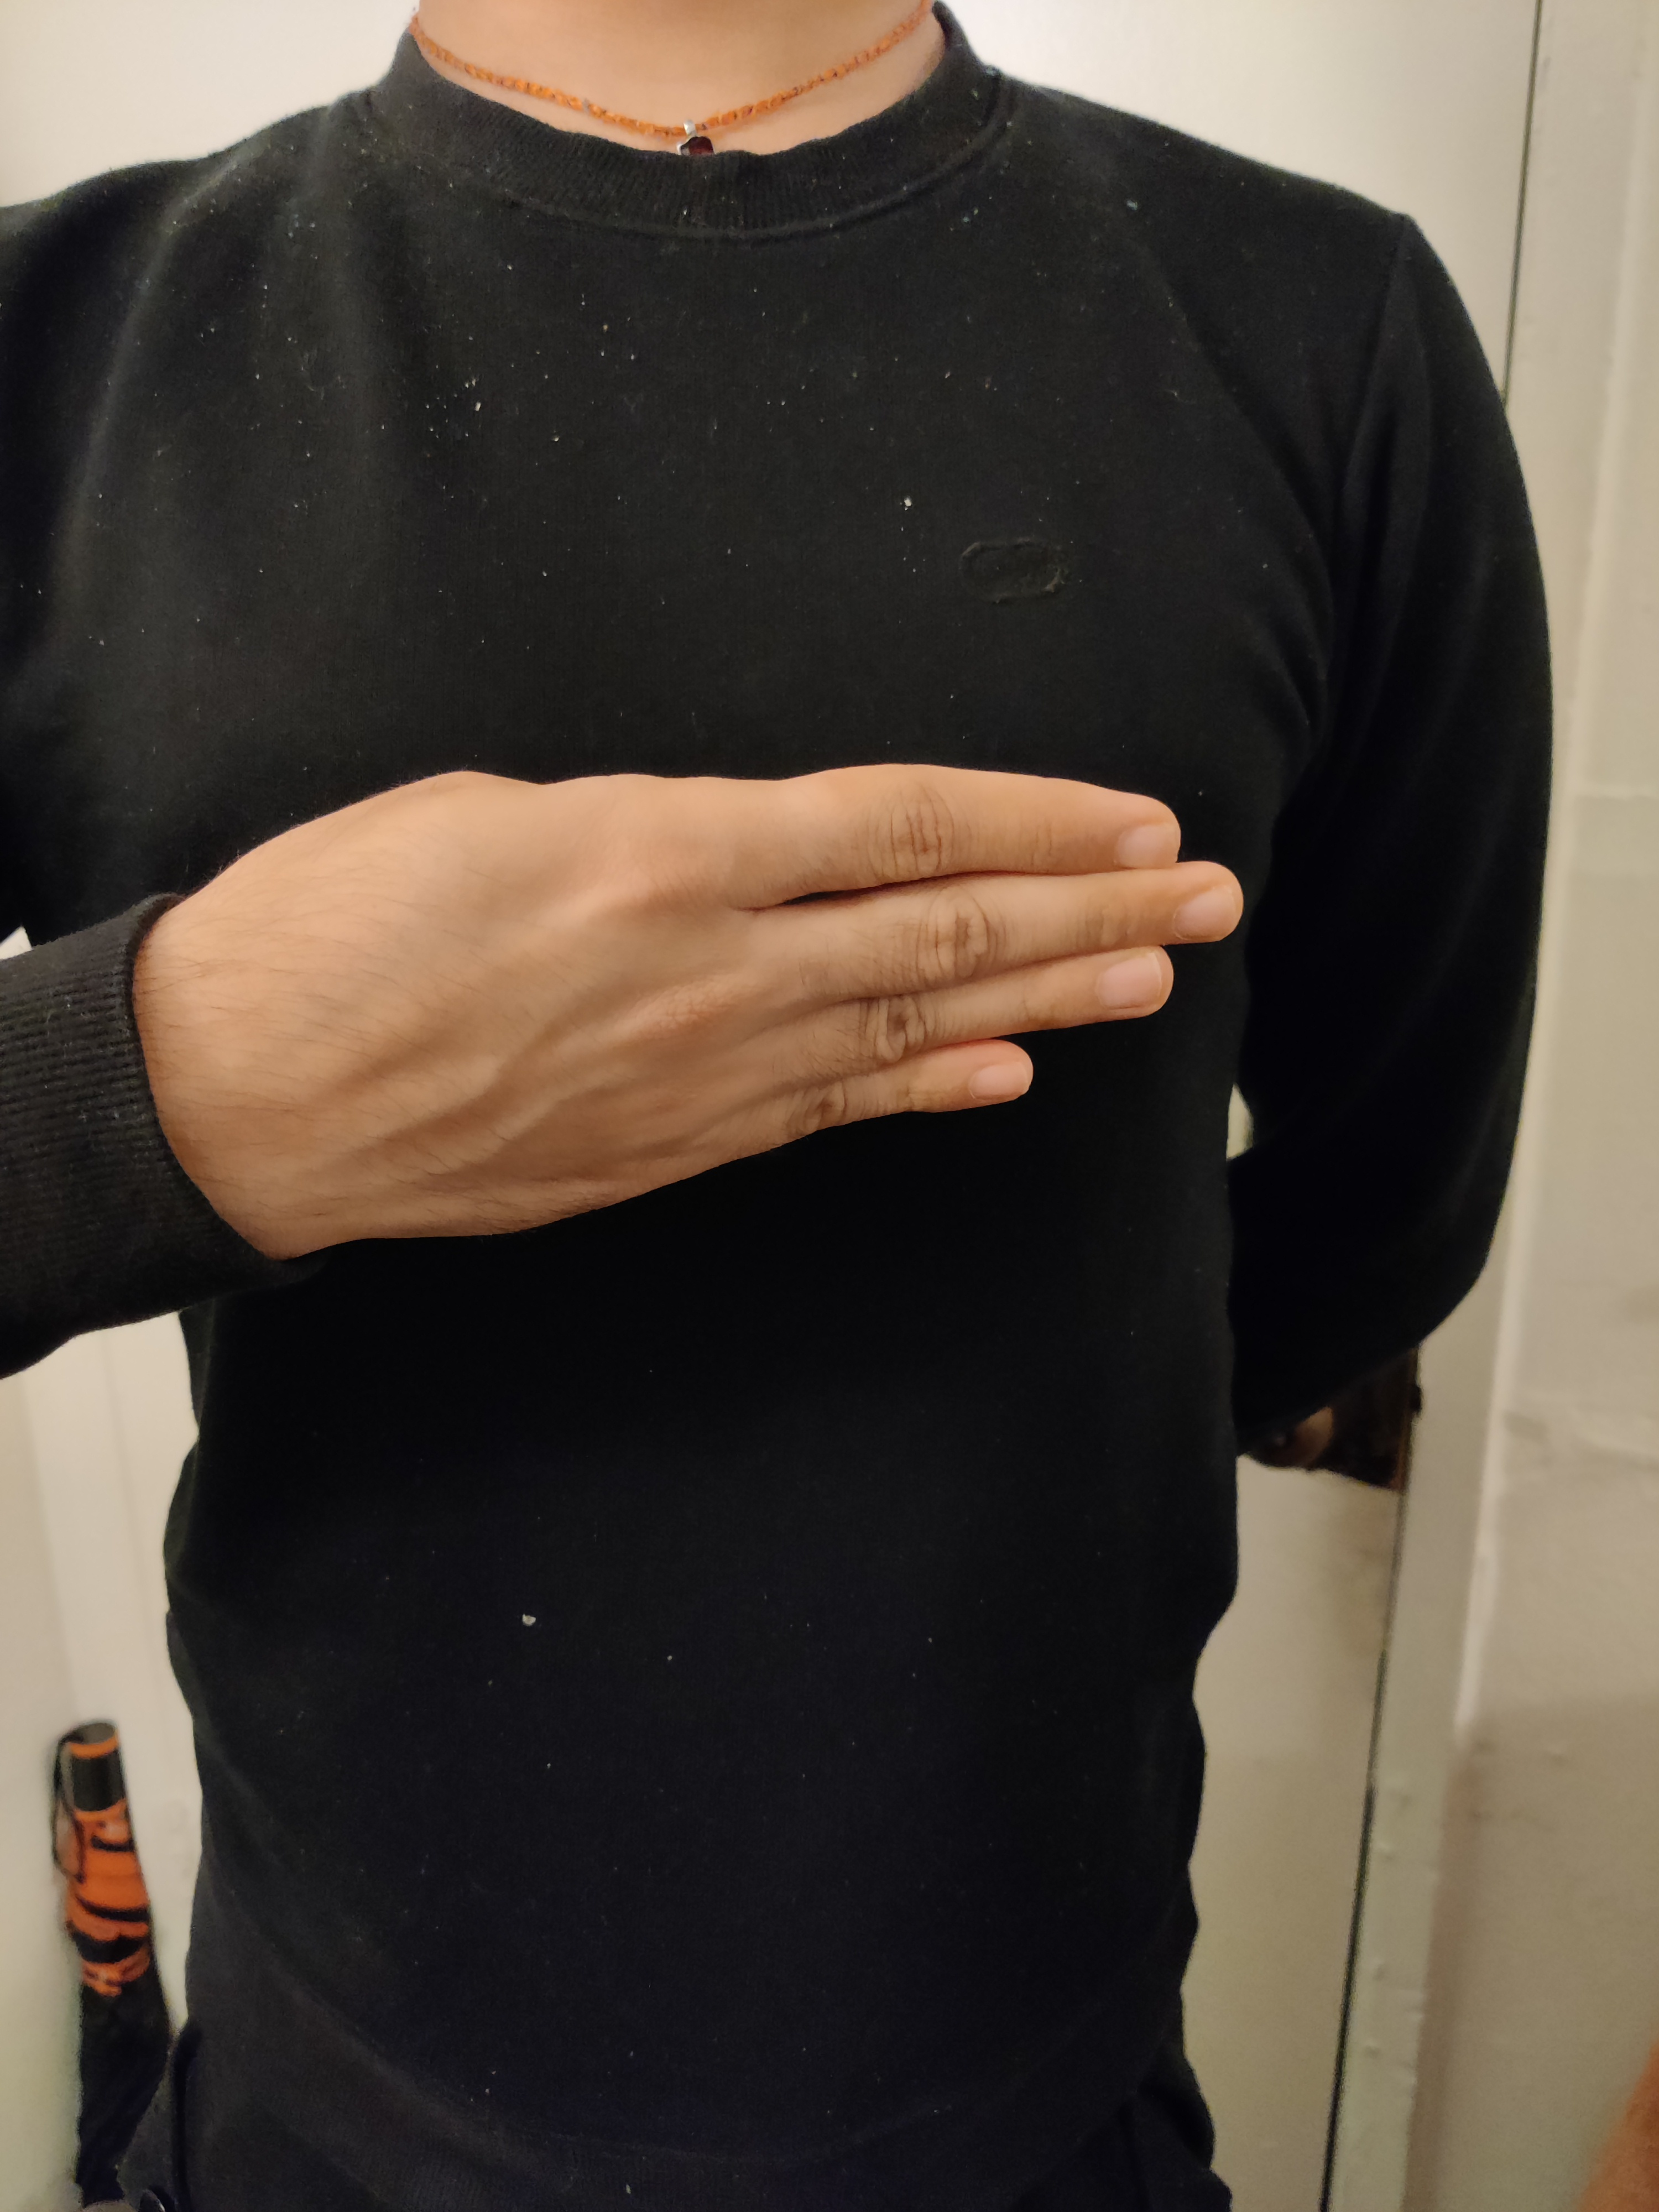left: (5, 475, 1333, 1406)
